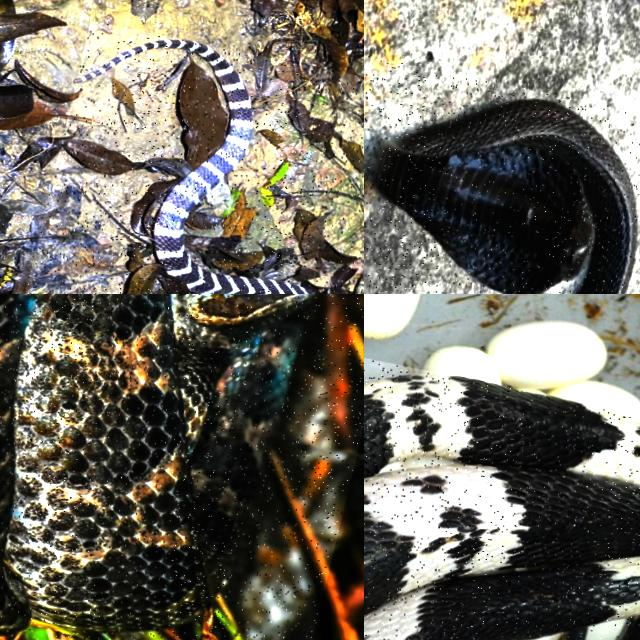Bungarus fasciatus: (76, 39, 309, 293)
Calloselasma rhodostoma: (0, 294, 311, 634)
Naja siamensis: (364, 376, 639, 639), (375, 101, 635, 293)
snake: (0, 294, 311, 634), (364, 376, 639, 639), (76, 39, 309, 293), (375, 101, 635, 293)
